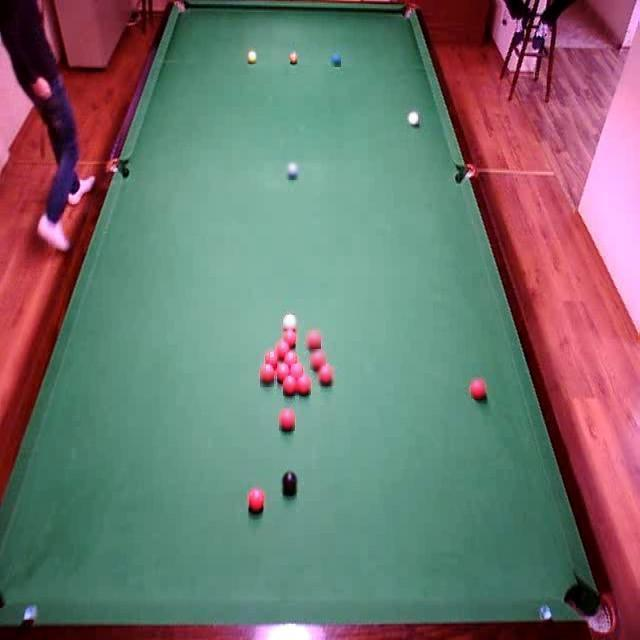Ball: (248, 488, 267, 516), (280, 469, 301, 493), (316, 366, 335, 386), (285, 159, 303, 180), (275, 339, 290, 363), (279, 409, 295, 431), (282, 350, 300, 369), (260, 363, 274, 387), (310, 349, 326, 370), (264, 348, 278, 371), (305, 330, 321, 350), (296, 374, 311, 395), (471, 377, 485, 399), (282, 329, 295, 351), (283, 315, 298, 334), (283, 376, 297, 396), (277, 359, 288, 381), (407, 109, 418, 129), (246, 49, 258, 64), (291, 364, 302, 377), (290, 50, 300, 64), (331, 53, 341, 67)
